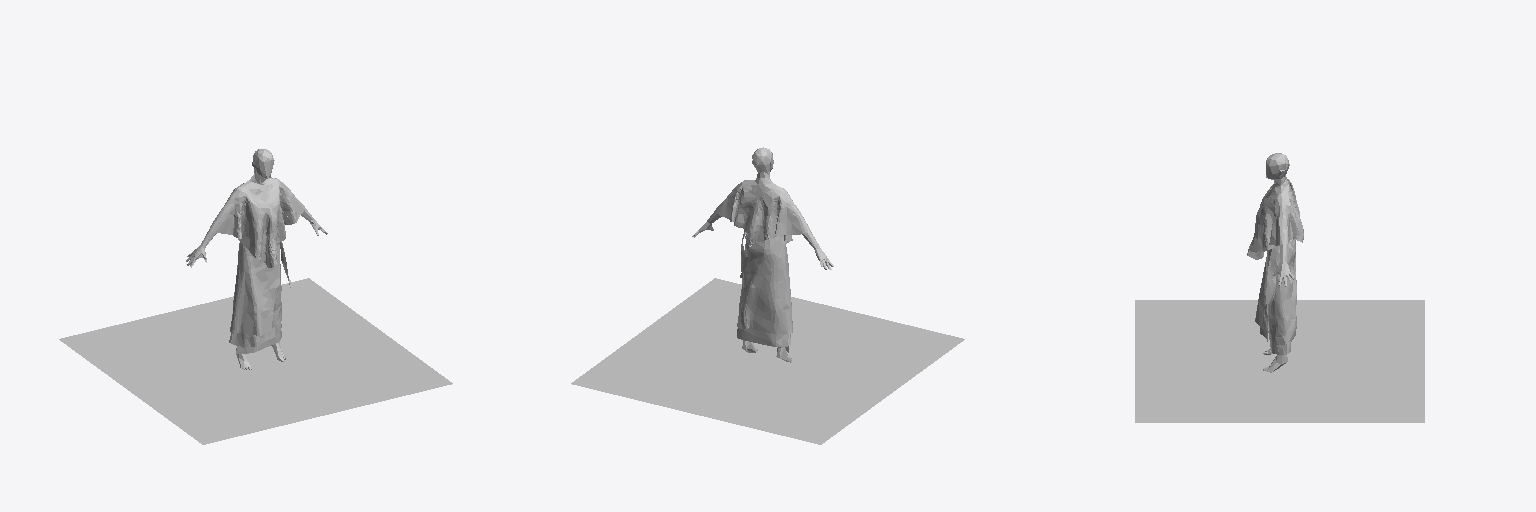
File: wave5.obj
3 views of the same model, side by side, from view 1: azimuth 30°, elevation 25°; view 2: azimuth 150°, elevation 25°; view 3: azimuth 270°, elevation 25° (orthographic).
Parts seen in each view (by area): view 1: Plane, TrajeTipico, Maniqui; view 2: Plane, TrajeTipico, Maniqui; view 3: Plane, TrajeTipico, Maniqui.
Part boxes in pixels (left/top/right/bottom): Plane: left=59, top=278, right=452, bottom=444; TrajeTipico: left=210, top=177, right=304, bottom=353; Maniqui: left=186, top=149, right=327, bottom=369; Plane: left=571, top=278, right=964, bottom=444; TrajeTipico: left=716, top=180, right=810, bottom=352; Maniqui: left=692, top=147, right=833, bottom=362; Plane: left=1135, top=300, right=1424, bottom=422; TrajeTipico: left=1247, top=179, right=1303, bottom=354; Maniqui: left=1263, top=153, right=1294, bottom=372.
Bounding box in the file's own units: 235 × 189 × 235.